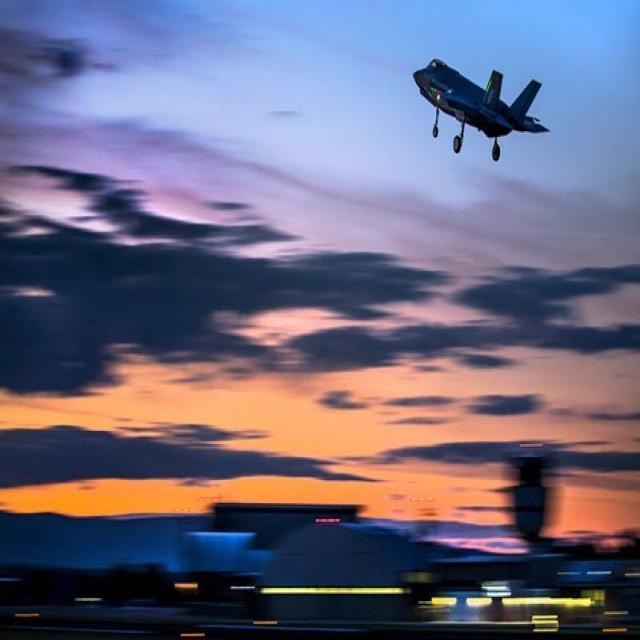MIL_Plane: (412, 19, 550, 123)
